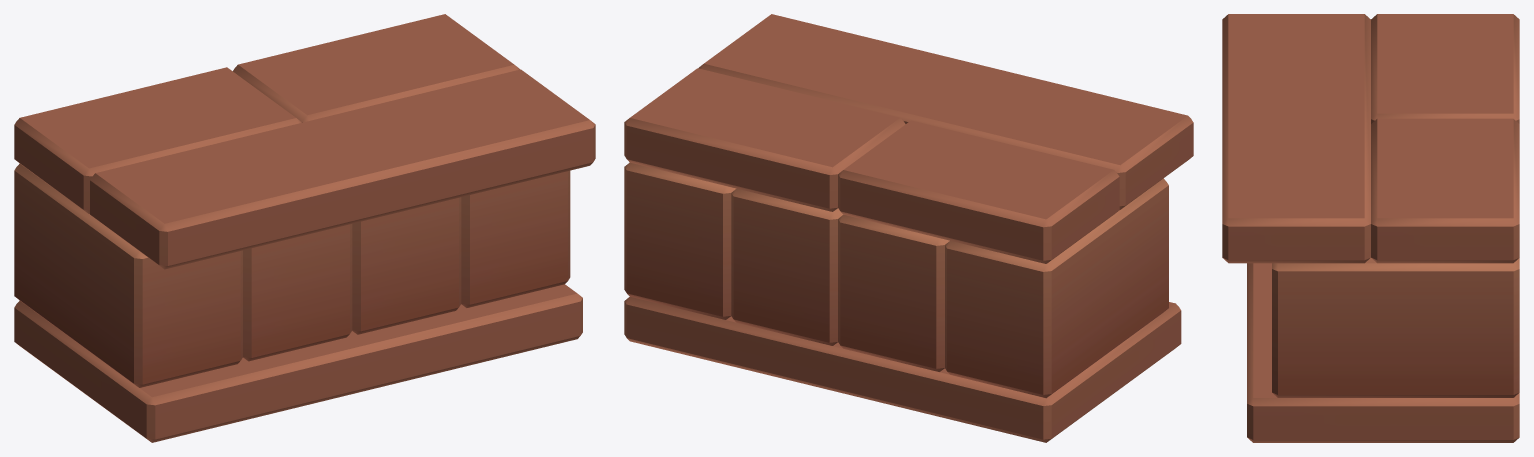
Rendered from bar_straight_a.glb.
3 views of the same model, side by side, from view 1: azimuth 30°, elevation 25°; view 2: azimuth 150°, elevation 25°; view 3: azimuth 270°, elevation 25° (orthographic). The views are drawn at different scales.
Visible parts, largest first — view 1: bar_straight_A; view 2: bar_straight_A; view 3: bar_straight_A.
Part boxes in pixels (x1=…): bar_straight_A: x1=14, y1=14, x2=595, y2=442; bar_straight_A: x1=624, y1=14, x2=1193, y2=442; bar_straight_A: x1=1222, y1=14, x2=1519, y2=442.
Size of the model in its own units: 2 by 0.9998 by 1.2.
1 material, 1 textured.
